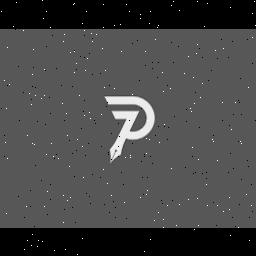p: (100, 91, 166, 173)
